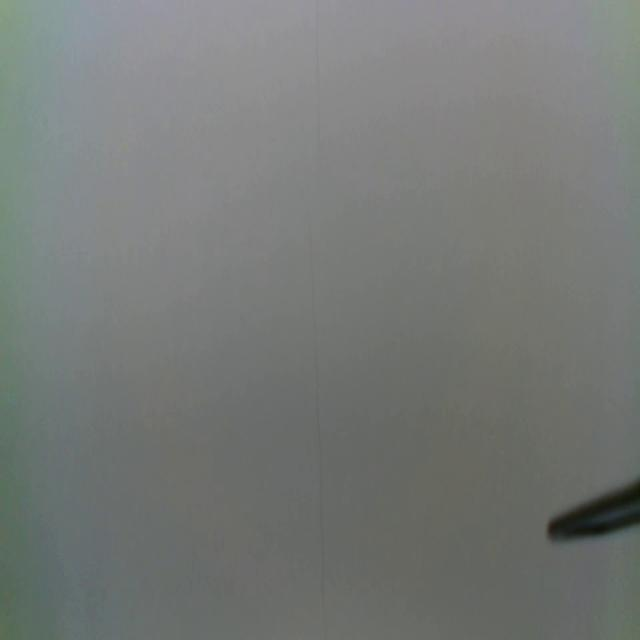crease: (308, 214, 326, 629), (312, 4, 324, 166)
